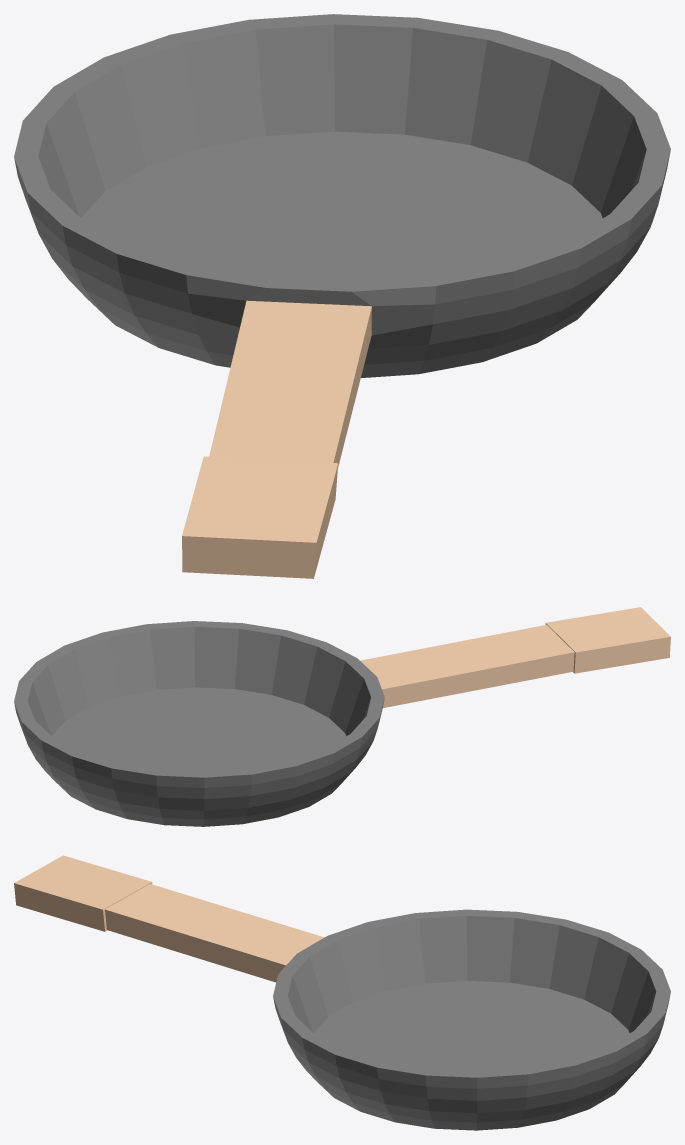
File: fryingPan.glb
3 views of the same model, one above another, from view 1: azimuth 30°, elevation 25°; view 2: azimuth 150°, elevation 25°; view 3: azimuth 270°, elevation 25° (orthographic). The views are drawn at different scales.
Visible parts, largest first — view 1: Pan; view 2: Pan; view 3: Pan.
Boxes of the visible parts, bbox=[...] form: Pan: bbox=[14, 14, 670, 578]; Pan: bbox=[14, 607, 670, 826]; Pan: bbox=[14, 855, 670, 1130].
Bounding box in the file's own units: 0.9131 × 0.1262 × 1.1.
